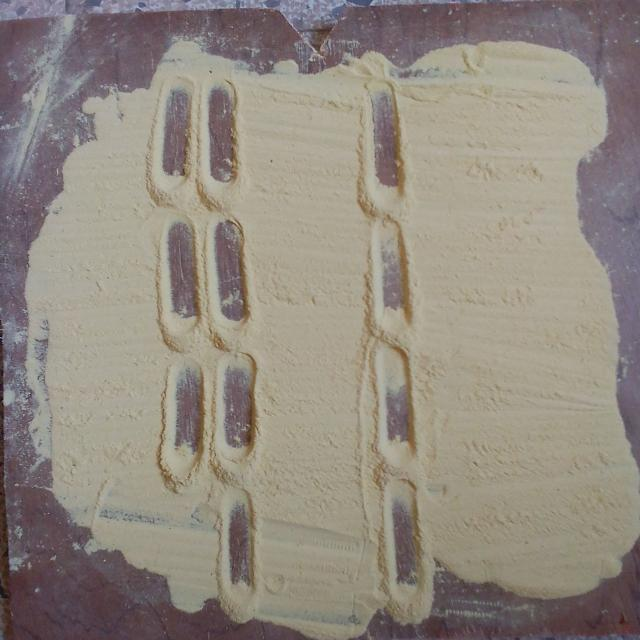double: (160, 349, 262, 476), (144, 72, 250, 190), (165, 212, 252, 336)
single: (380, 478, 435, 616), (361, 74, 414, 208), (370, 348, 425, 466), (368, 219, 419, 342), (217, 492, 262, 618)
